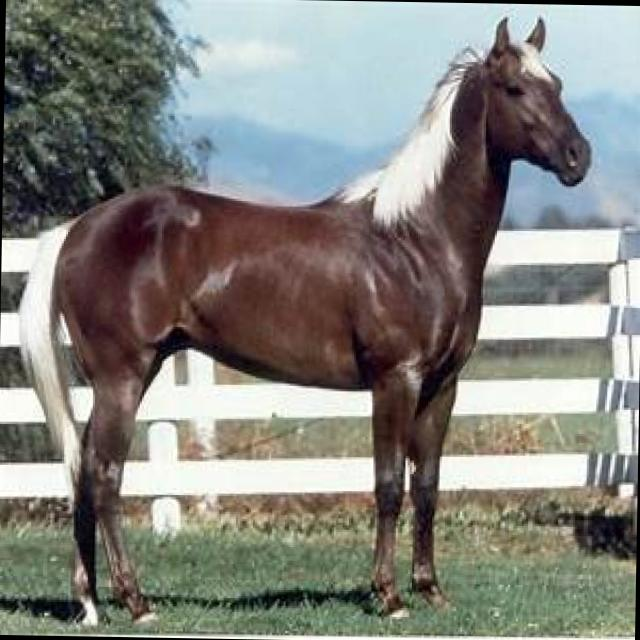horse: (52, 14, 594, 632)
